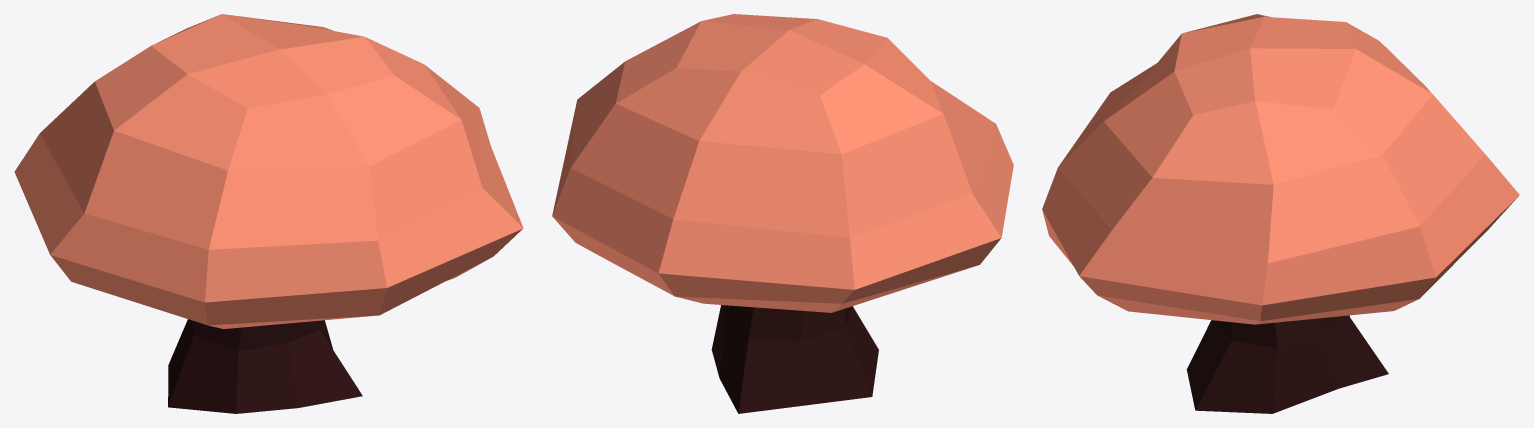
File: Mushroom.fbx
The picture shows the model from 3 angles, left to right: view 1: azimuth 30°, elevation 25°; view 2: azimuth 150°, elevation 25°; view 3: azimuth 270°, elevation 25°; orthographic projection. The views are drawn at different scales.
Visible parts, largest first — view 1: Mushroom; view 2: Mushroom; view 3: Mushroom.
Part boxes in pixels (x1,y1,x2,y2): Mushroom: [14, 14, 523, 413]; Mushroom: [552, 14, 1013, 413]; Mushroom: [1042, 14, 1519, 413].
Bounding box in the file's own units: 1133 × 843 × 1076.
